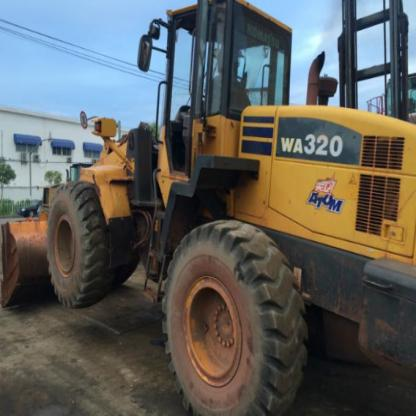bull_dozer/loader/grader: (3, 4, 414, 412)
